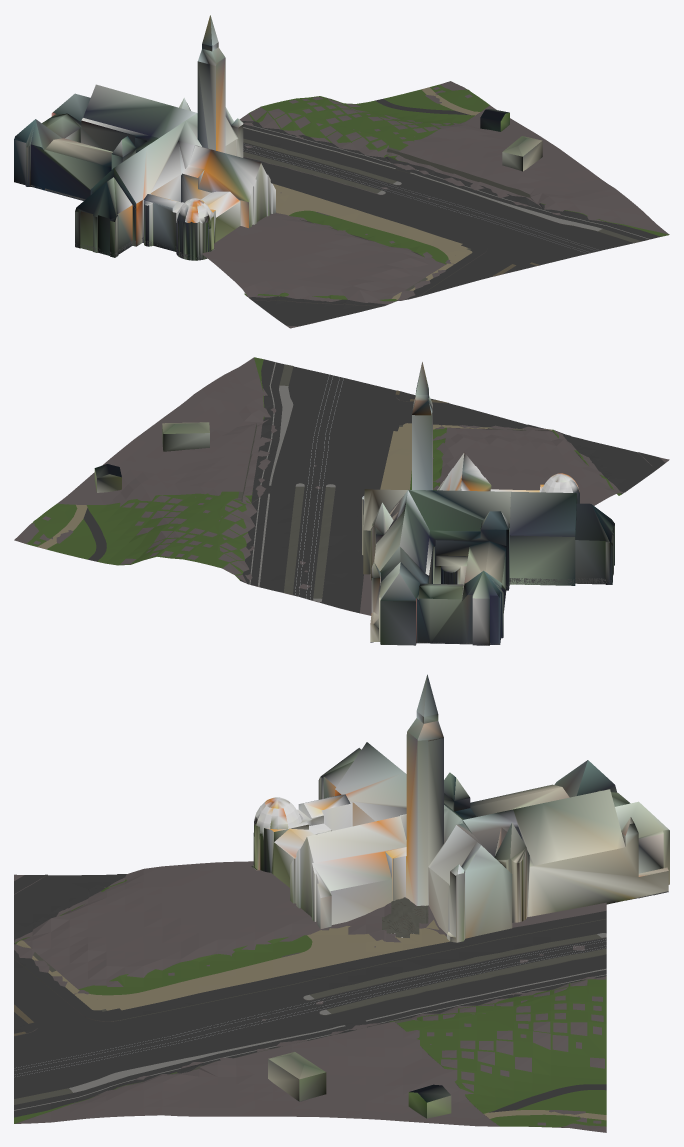
3 renders of one model, top to bottom at view 1: azimuth 30°, elevation 25°; view 2: azimuth 150°, elevation 25°; view 3: azimuth 270°, elevation 25°, orthographic. The views are drawn at different scales.
Visible parts, largest first — view 1: c_m09_m05; view 2: c_m09_m05; view 3: c_m09_m05.
Boxes of the visible parts, x1=… form: c_m09_m05: x1=14, y1=15, x2=669, y2=328; c_m09_m05: x1=14, y1=357, x2=669, y2=645; c_m09_m05: x1=14, y1=674, x2=669, y2=1132.
Bounding box in the file's own units: 155 × 61.64 × 142.
